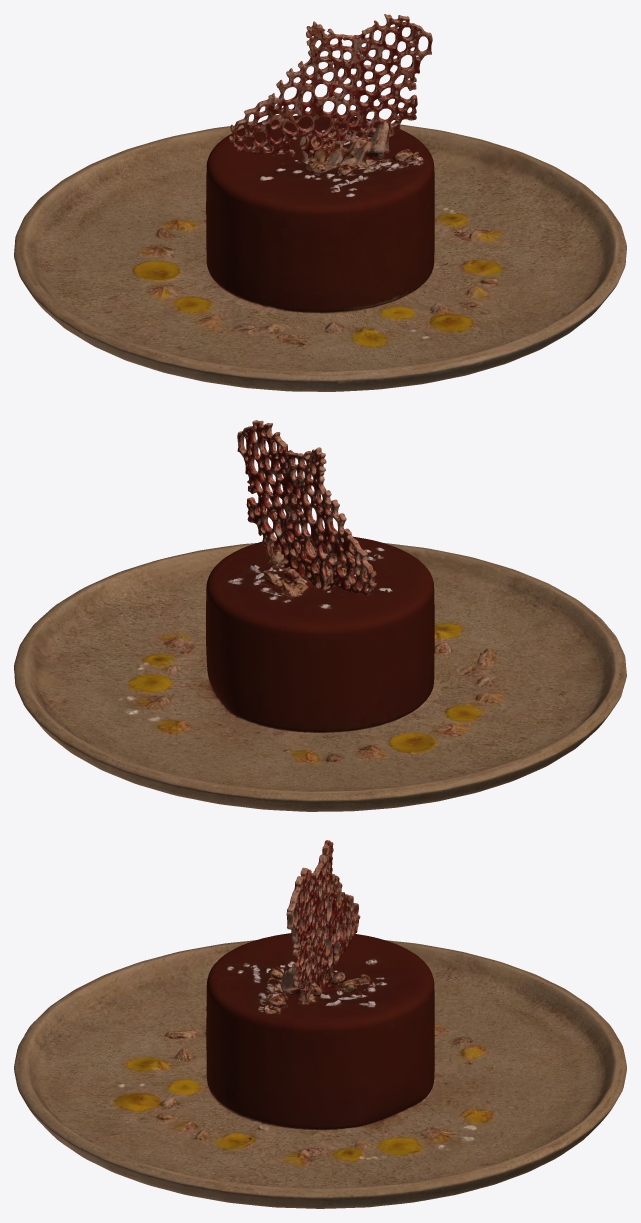
Rendered from chocolat-fume.glb.
The picture shows the model from 3 angles, top to bottom: view 1: azimuth 30°, elevation 25°; view 2: azimuth 150°, elevation 25°; view 3: azimuth 270°, elevation 25°; orthographic projection.
Bounding box in the file's own units: 1.9 × 0.8773 × 1.9.
Materials: 1 (1 with a texture image).
